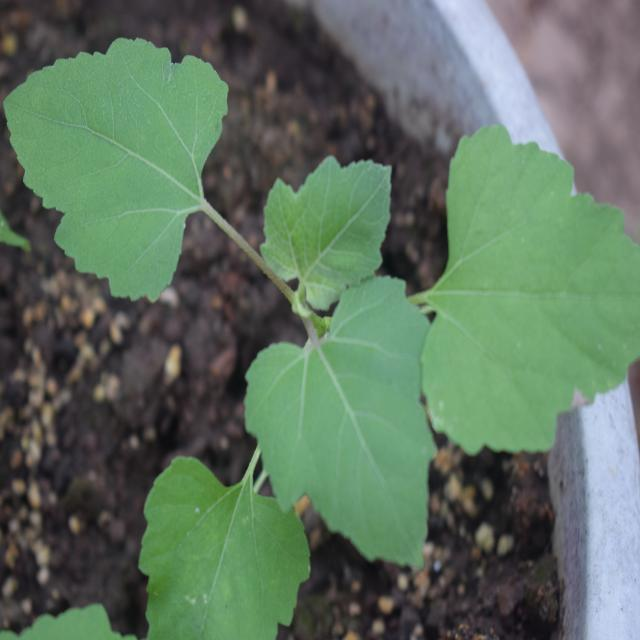cocklebur: (37, 40, 634, 548)
